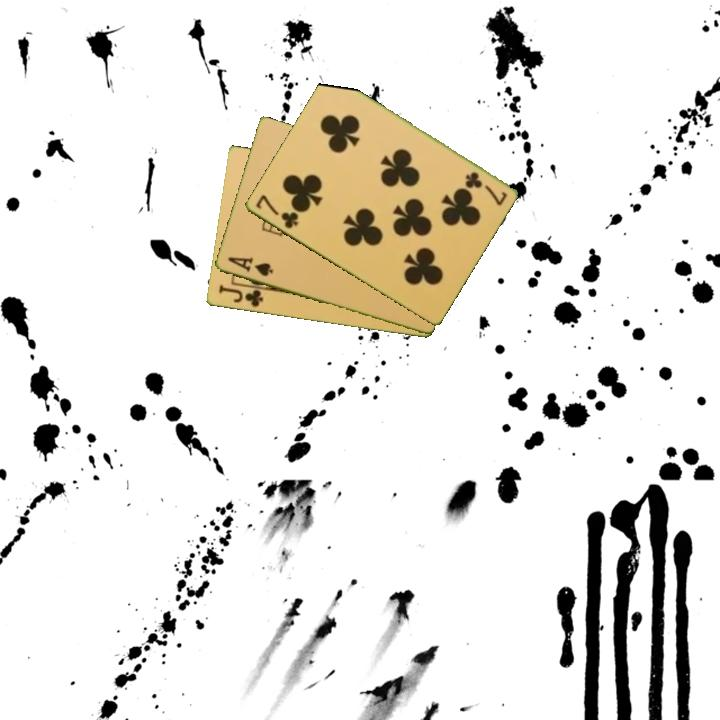7c: (252, 191, 301, 232), (461, 168, 510, 208)
As: (224, 253, 276, 280)
Jc: (215, 282, 266, 310)
